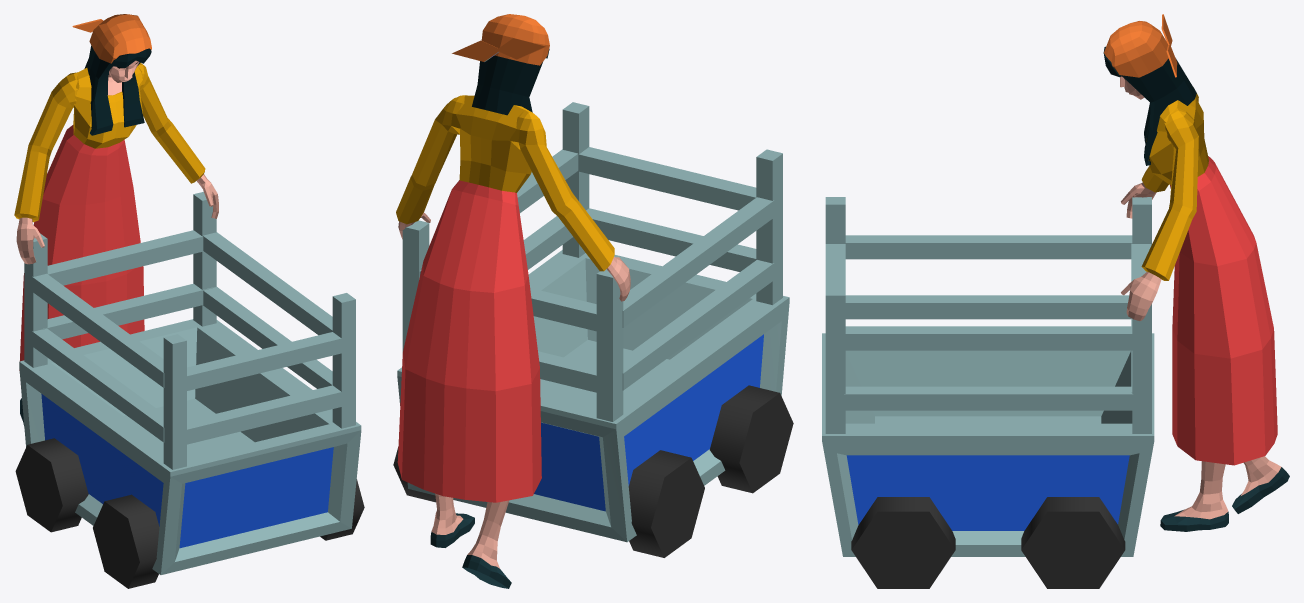
File: Female_pose_06.FBX
3 renders of one model, left to right at view 1: azimuth 30°, elevation 25°; view 2: azimuth 150°, elevation 25°; view 3: azimuth 270°, elevation 25°, orthographic. The views are drawn at different scales.
Visible parts, largest first — view 1: Female_04; view 2: Female_04; view 3: Female_04.
Boxes of the visible parts, x1=… form: Female_04: x1=14, y1=14, x2=364, y2=588; Female_04: x1=393, y1=14, x2=793, y2=588; Female_04: x1=822, y1=14, x2=1289, y2=588.
Bounding box in the file's own units: 0.9138 × 1.78 × 1.5.
1 material, 1 textured.
